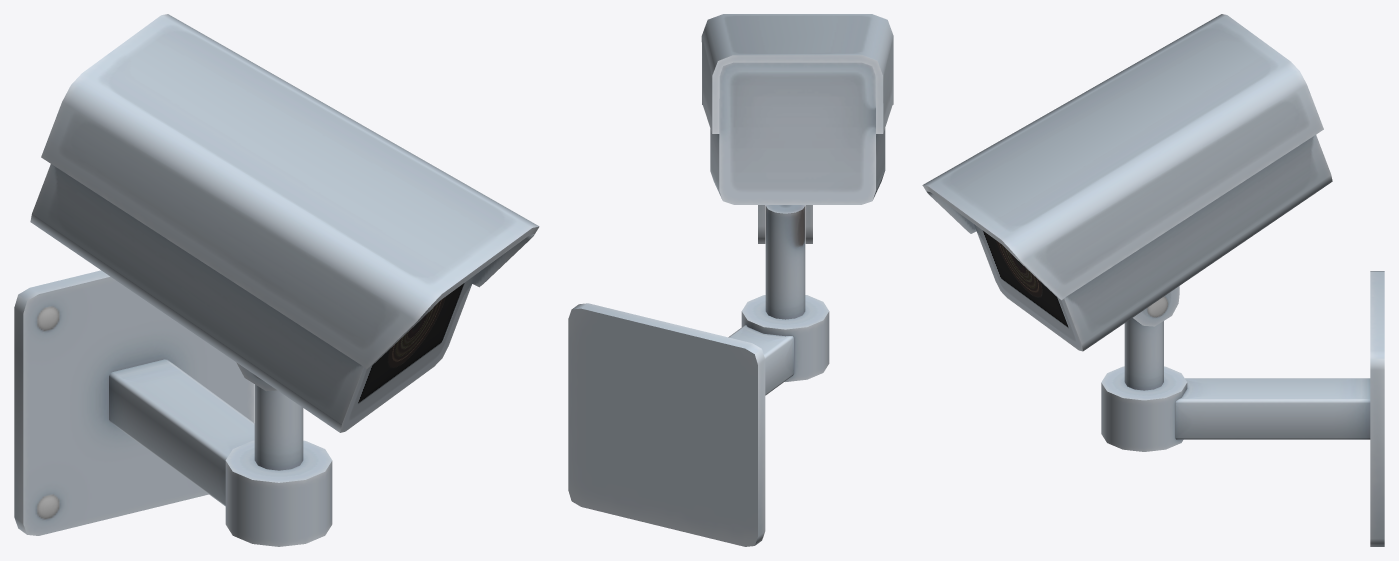
The model's file is SafetyCamera01.FBX.
3 renders of one model, left to right at view 1: azimuth 30°, elevation 25°; view 2: azimuth 150°, elevation 25°; view 3: azimuth 270°, elevation 25°, orthographic. The views are drawn at different scales.
Parts seen in each view (by area): view 1: SafetyCamera01; view 2: SafetyCamera01; view 3: SafetyCamera01.
Boxes of the visible parts, x1,y1,x2,y2 form: SafetyCamera01: (14, 14, 539, 546); SafetyCamera01: (568, 14, 893, 546); SafetyCamera01: (922, 14, 1384, 546).
Size of what is drawn, in the model's own units: 0.2665 by 0.3845 by 0.371.
